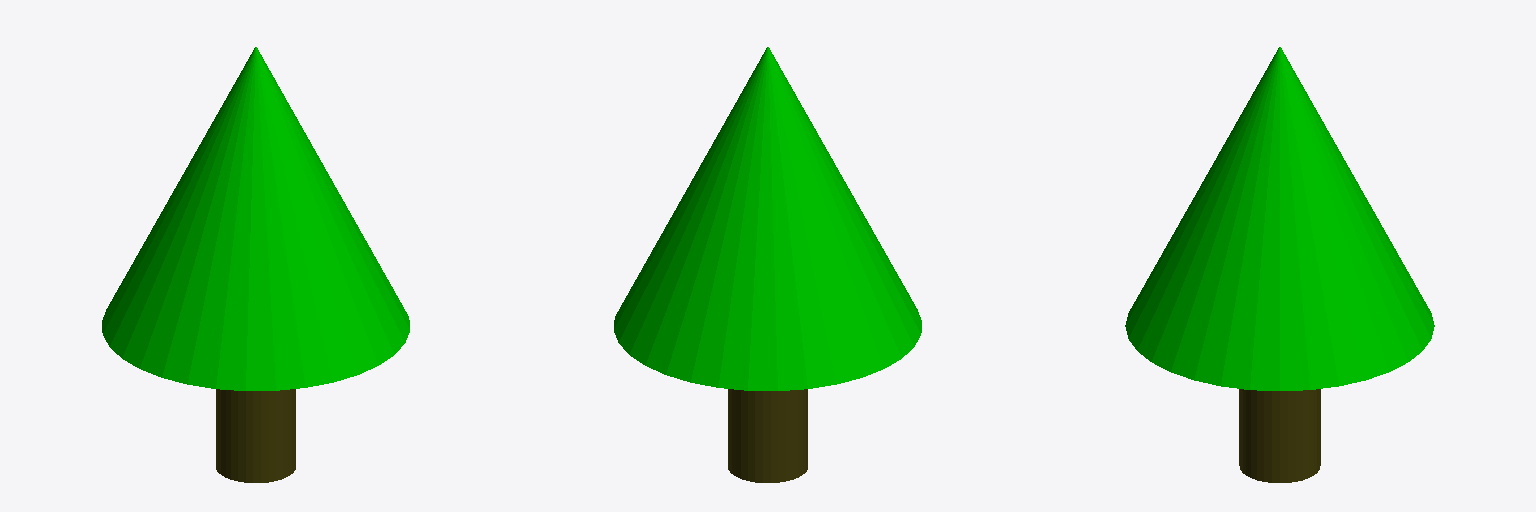
The model's file is Pinetree.obj.
3 views of the same model, side by side, from view 1: azimuth 30°, elevation 25°; view 2: azimuth 150°, elevation 25°; view 3: azimuth 270°, elevation 25° (orthographic).
Parts seen in each view (by area): view 1: Cube; view 2: Cube; view 3: Cube.
Boxes of the visible parts, x1=… form: Cube: x1=102, y1=47, x2=409, y2=482; Cube: x1=614, y1=47, x2=921, y2=482; Cube: x1=1125, y1=47, x2=1434, y2=482.
Bounding box in the file's own units: 2 × 3 × 2.